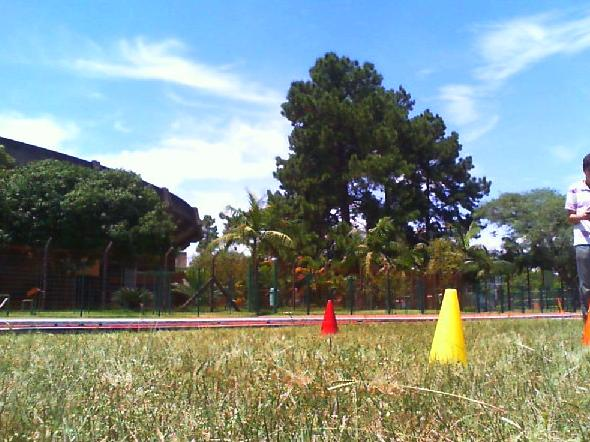0 cone: (427, 288, 469, 365), (316, 300, 341, 336), (581, 297, 590, 346)
